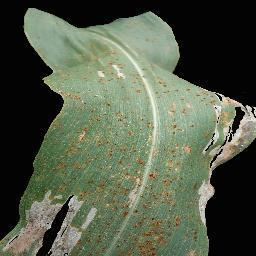Corn_Common_Rust: (1, 110, 256, 256), (15, 5, 256, 127)
